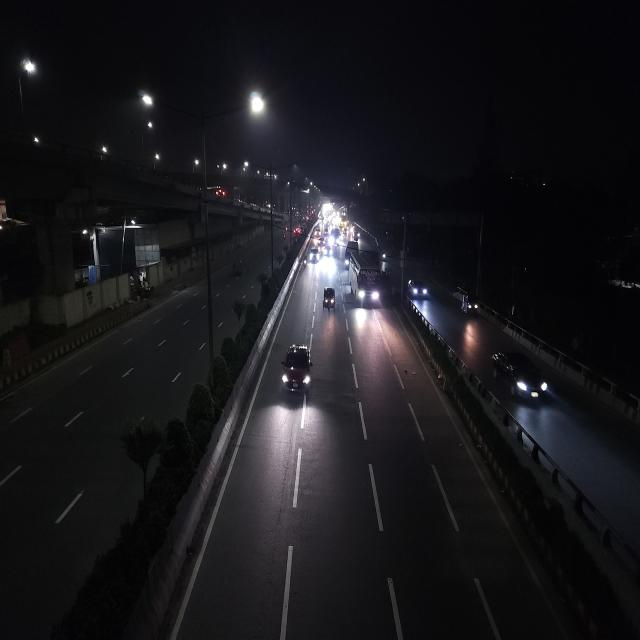bus: (346, 246, 384, 310)
car: (489, 347, 551, 410), (278, 341, 316, 400), (407, 277, 429, 300), (307, 247, 320, 265), (323, 242, 333, 259), (293, 225, 303, 237)
cng: (458, 290, 480, 318), (320, 284, 338, 313), (231, 257, 244, 278)
motorcycle: (303, 252, 308, 272)
